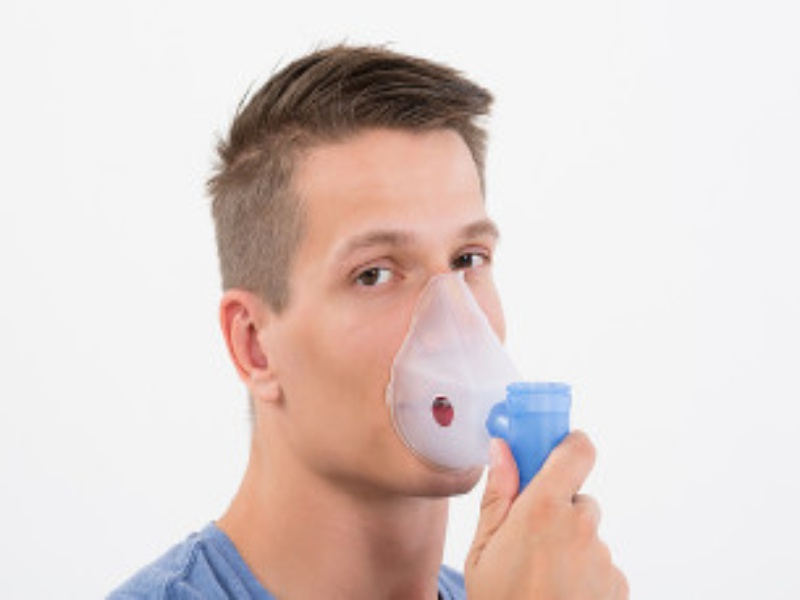mask: (189, 43, 524, 508)
